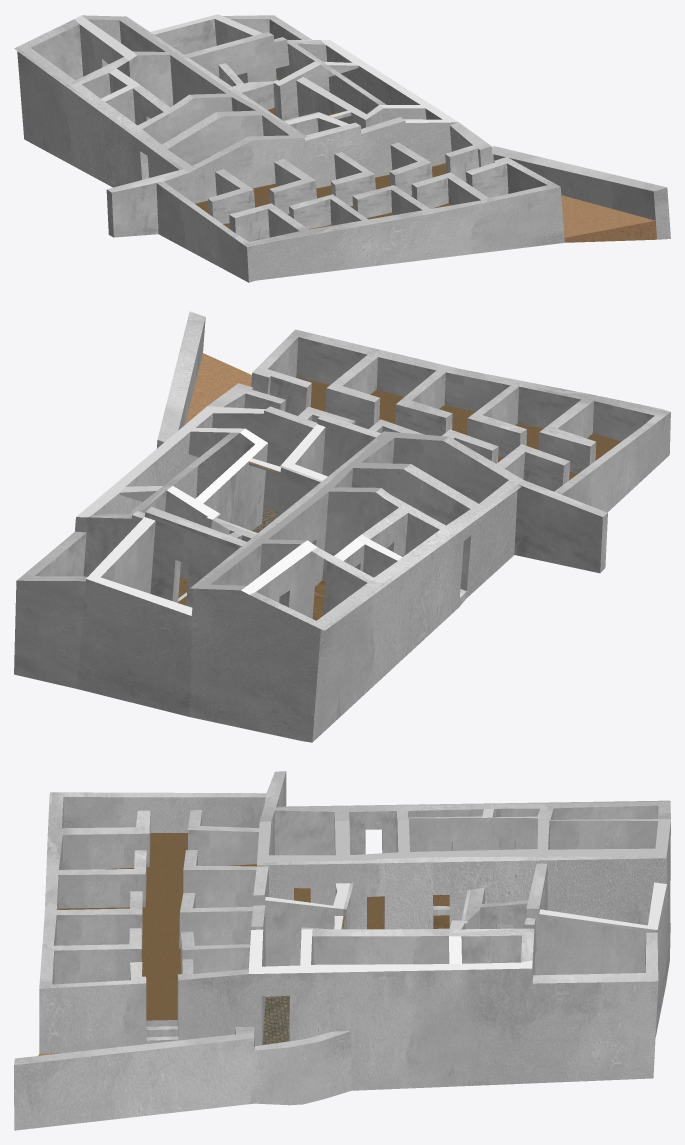
File: sondagem4.withoutRoof.glb
The picture shows the model from 3 angles, top to bottom: view 1: azimuth 30°, elevation 25°; view 2: azimuth 150°, elevation 25°; view 3: azimuth 270°, elevation 25°; orthographic projection. The views are drawn at different scales.
Parts seen in each view (by area): view 1: Roof; view 2: Roof; view 3: Roof.
Boxes of the visible parts, x1=… form: Roof: x1=14, y1=14, x2=670, y2=282; Roof: x1=14, y1=311, x2=670, y2=742; Roof: x1=14, y1=771, x2=670, y2=1130.
Size of the model in its own units: 192 by 50.29 by 201.
7 materials, 6 textured.
